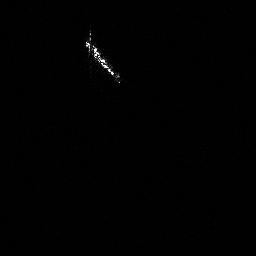ship: (82, 25, 125, 88)
